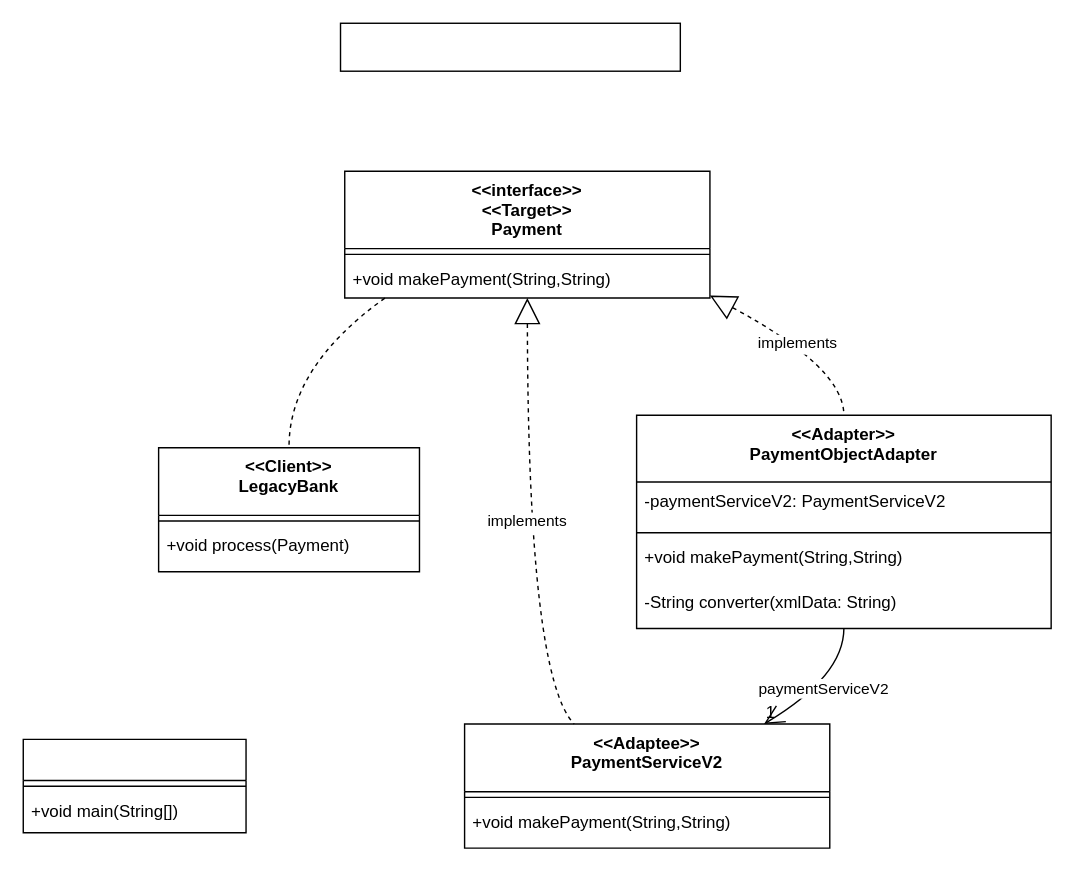
Some shapes in this 1074 by 871 pixel diagram are drawn without their labels. Each missing label, with the box of its shape:
New Flow using Object Adapter: (339, 22, 680, 71)
PatternTest: (22, 738, 246, 833)
